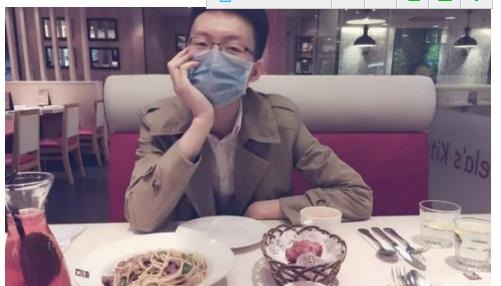face_mask: (182, 15, 254, 110)
